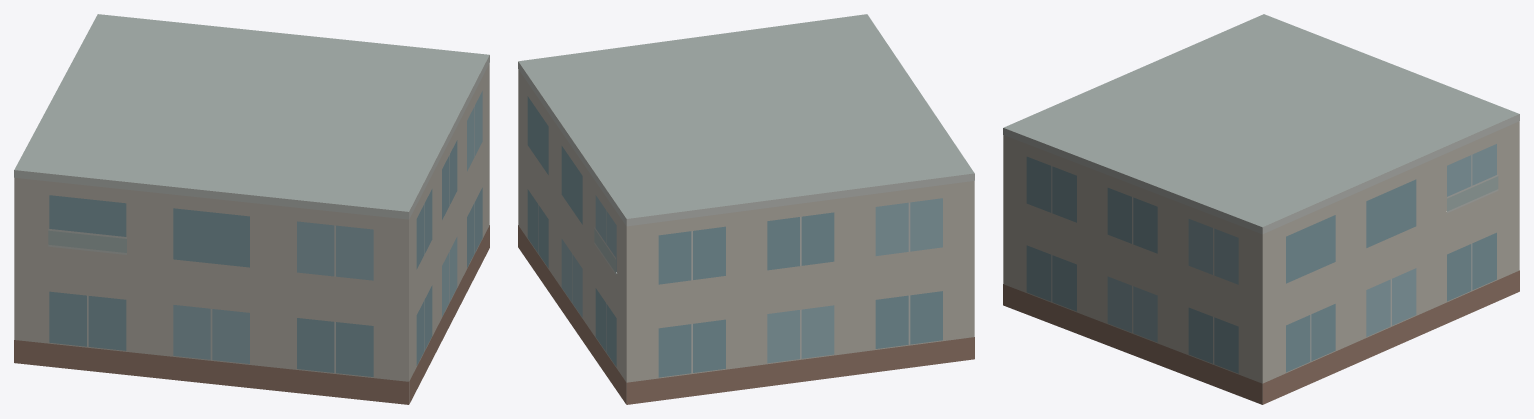
Rendered from survey-upis-32761974.glb.
3 renders of one model, left to right at view 1: azimuth 30°, elevation 25°; view 2: azimuth 150°, elevation 25°; view 3: azimuth 270°, elevation 25°, orthographic. The views are drawn at different scales.
Visible parts, largest first — view 1: survey-upis-32761974.tmp; view 2: survey-upis-32761974.tmp; view 3: survey-upis-32761974.tmp.
Boxes of the visible parts, x1,y1,x2,y2 form: survey-upis-32761974.tmp: (14, 14, 489, 404); survey-upis-32761974.tmp: (518, 14, 974, 404); survey-upis-32761974.tmp: (1003, 14, 1519, 404).
Size of the model in its own units: 15.72 by 6.1 by 16.09.
